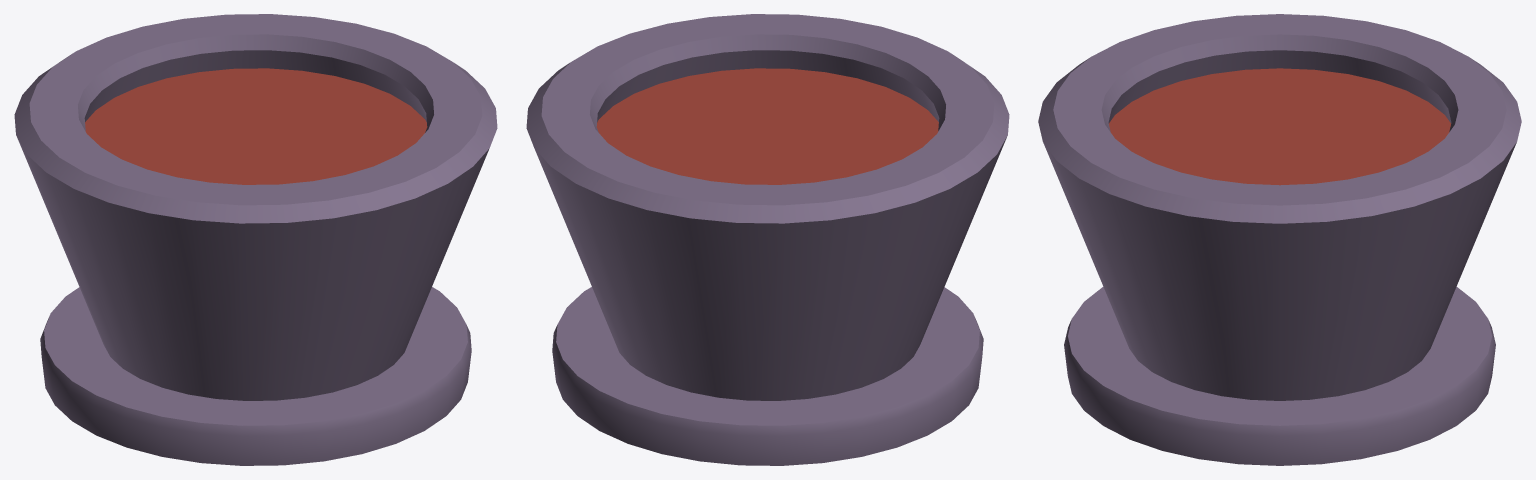
File: Pot_8.fbx
3 renders of one model, left to right at view 1: azimuth 30°, elevation 25°; view 2: azimuth 150°, elevation 25°; view 3: azimuth 270°, elevation 25°, orthographic.
Visible parts, largest first — view 1: Cylinder.001; view 2: Cylinder.001; view 3: Cylinder.001.
Boxes of the visible parts, left/top/right/bottom form: Cylinder.001: left=14, top=14, right=497, bottom=465; Cylinder.001: left=526, top=14, right=1009, bottom=465; Cylinder.001: left=1038, top=14, right=1521, bottom=465.
Bounding box in the file's own units: 32.03 × 19.47 × 32.03.
1 material, 1 textured.
